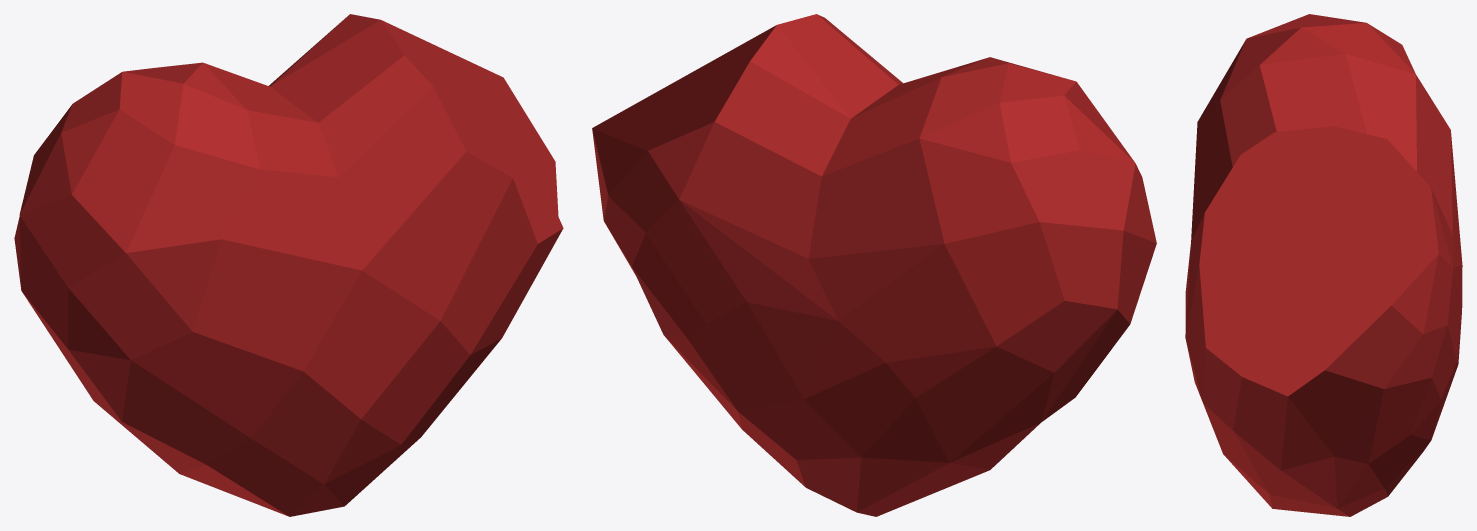
Rendered from big_heart.fbx.
The picture shows the model from 3 angles, left to right: view 1: azimuth 30°, elevation 25°; view 2: azimuth 150°, elevation 25°; view 3: azimuth 270°, elevation 25°; orthographic projection. The views are drawn at different scales.
Parts seen in each view (by area): view 1: big_heart; view 2: big_heart; view 3: big_heart.
Part boxes in pixels (x1,y1,x2,y2): big_heart: (14,14,563,516); big_heart: (592,14,1156,516); big_heart: (1185,14,1462,516).
Bounding box in the file's own units: 1.67 × 1.39 × 0.8214.
